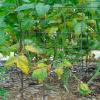Tomato Early blight leaf: (54, 60, 75, 79), (32, 63, 51, 83), (15, 55, 30, 74), (25, 45, 41, 56), (48, 27, 59, 37), (66, 21, 74, 28)
Tomato leaf: (36, 3, 50, 19), (21, 17, 36, 31), (15, 4, 34, 10)
